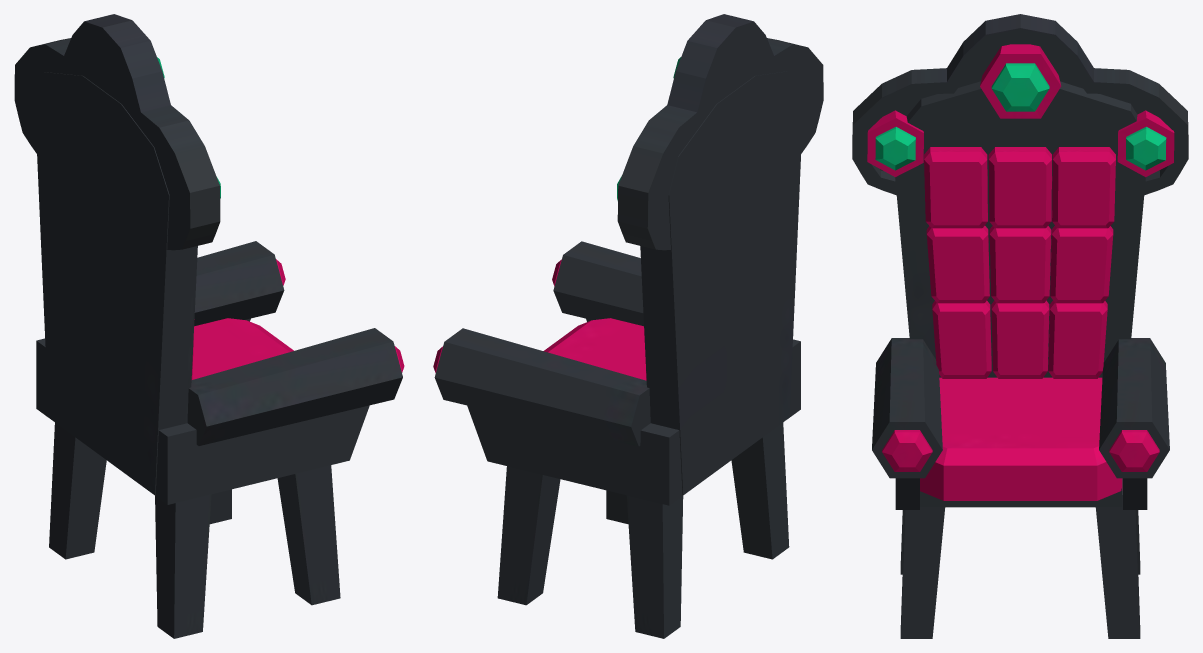
File: chair(1).fbx
3 renders of one model, left to right at view 1: azimuth 30°, elevation 25°; view 2: azimuth 150°, elevation 25°; view 3: azimuth 270°, elevation 25°, orthographic. The views are drawn at different scales.
Visible parts, largest first — view 1: chair; view 2: chair; view 3: chair.
Boxes of the visible parts, <box> form: chair: <box>14,14,404,638</box>; chair: <box>433,14,823,638</box>; chair: <box>852,14,1188,638</box>.
Size of the model in its own units: 65.93 by 152 by 85.26.
